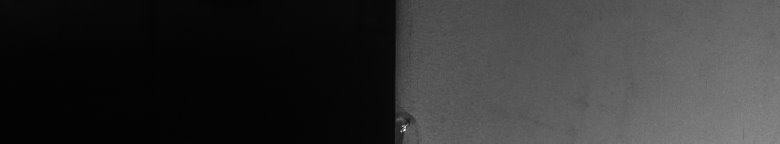hb: (404, 104, 421, 136)
